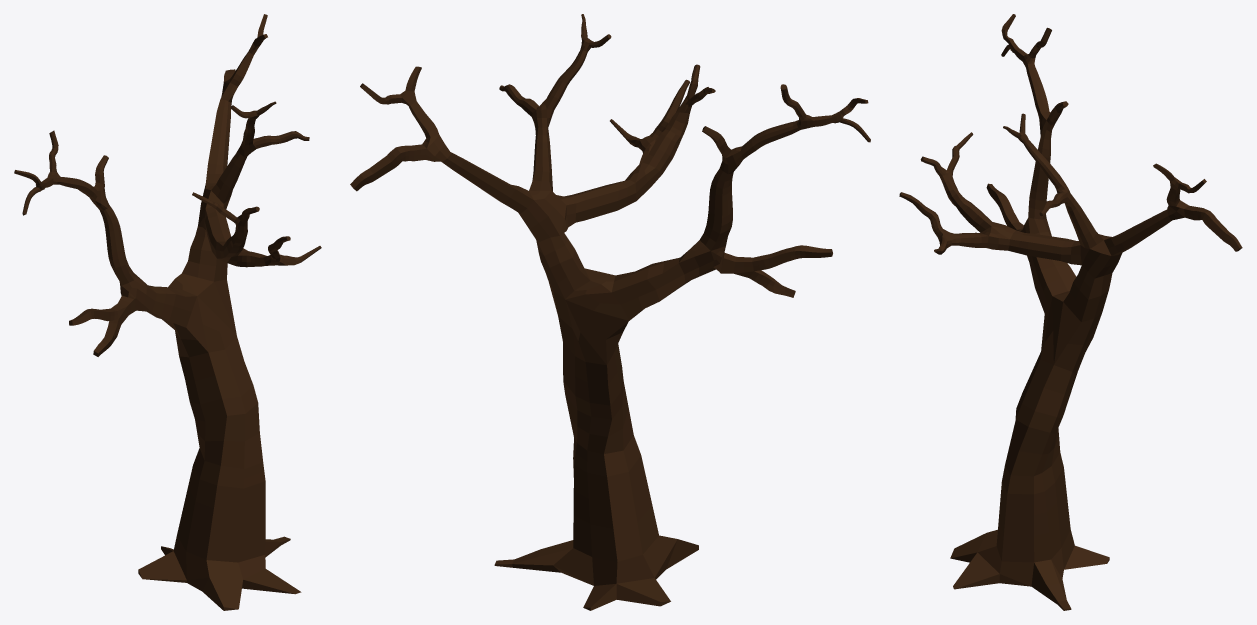
File: Tree_001.fbx
The picture shows the model from 3 angles, left to right: view 1: azimuth 30°, elevation 25°; view 2: azimuth 150°, elevation 25°; view 3: azimuth 270°, elevation 25°; orthographic projection. The views are drawn at different scales.
Visible parts, largest first — view 1: tree_001; view 2: tree_001; view 3: tree_001.
Part boxes in pixels (<box>): tree_001: <box>14,14,321,610</box>; tree_001: <box>350,14,870,610</box>; tree_001: <box>899,14,1242,610</box>.
Bounding box in the file's own units: 550 × 711 × 475.
